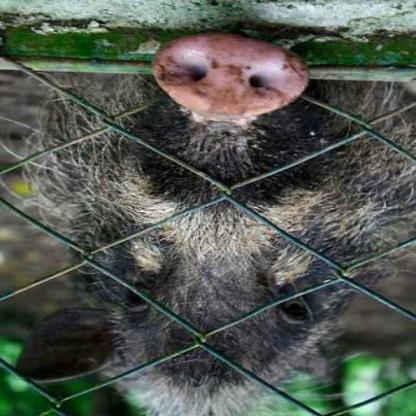boar: (11, 32, 415, 416)
